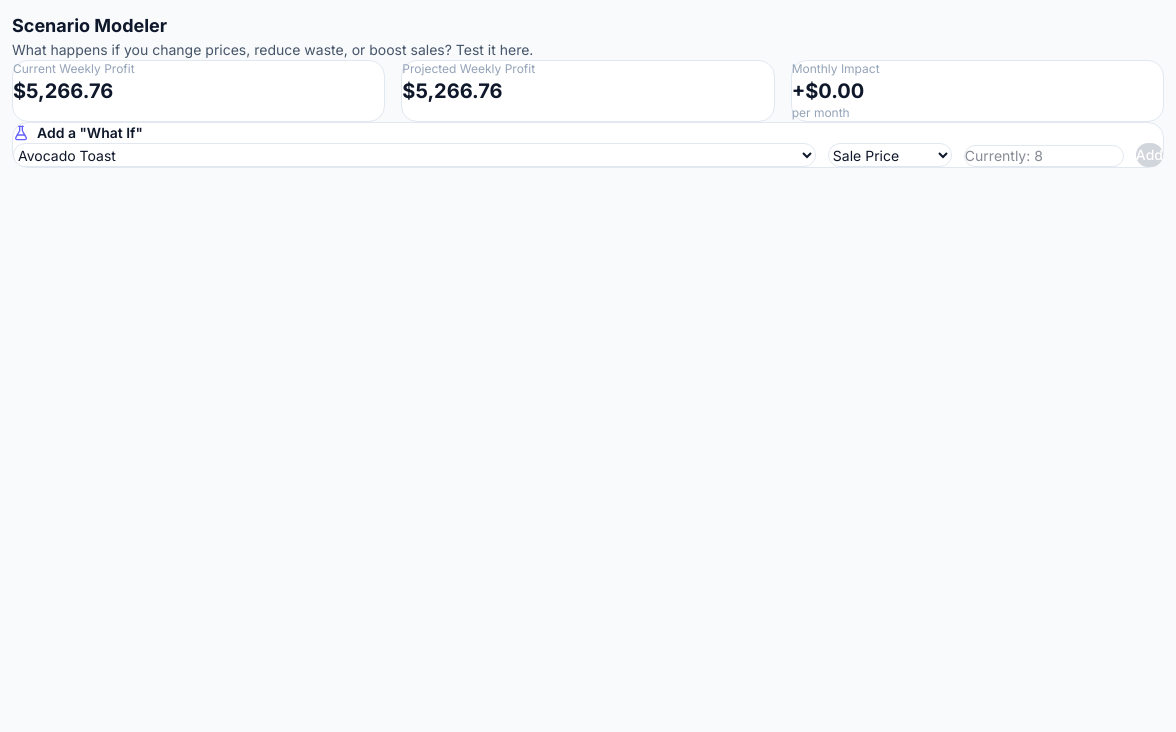
Scenario: ScenarioModeler › adds a scenario with correct waste factor conversion
# Select waste factor field
Select "Waste Factor" in the 2nd dropdown. click: (890, 155)
box: [828, 143, 952, 167]
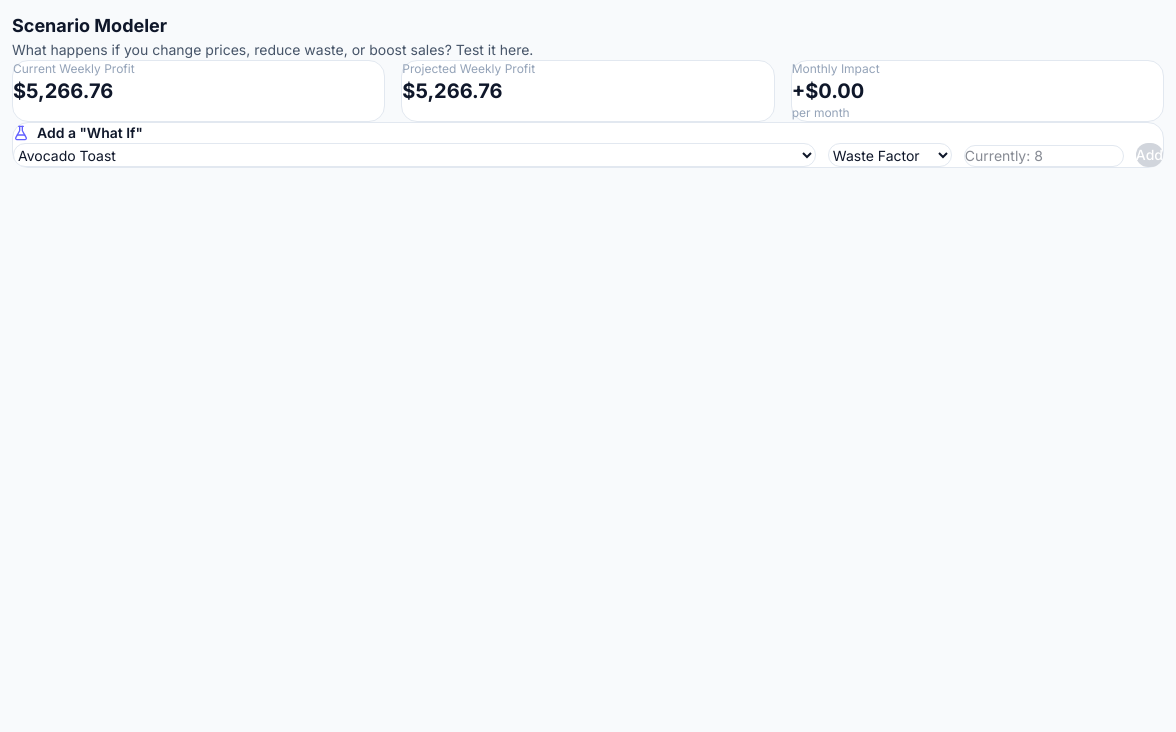
Type "10" into the number field with placeholder "Currently: 8". click: (1044, 156)
box: [964, 145, 1124, 167]
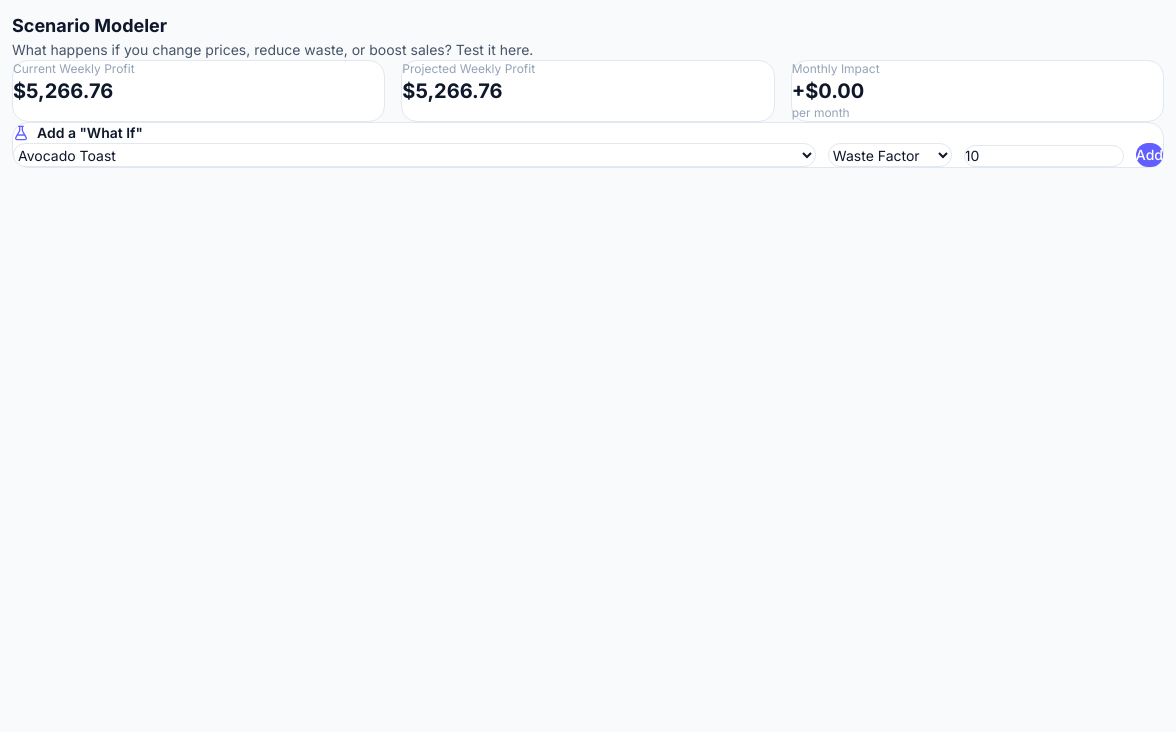
# Click Add
Click the button "Add". click: click(1149, 155)
box: [1136, 143, 1163, 167]
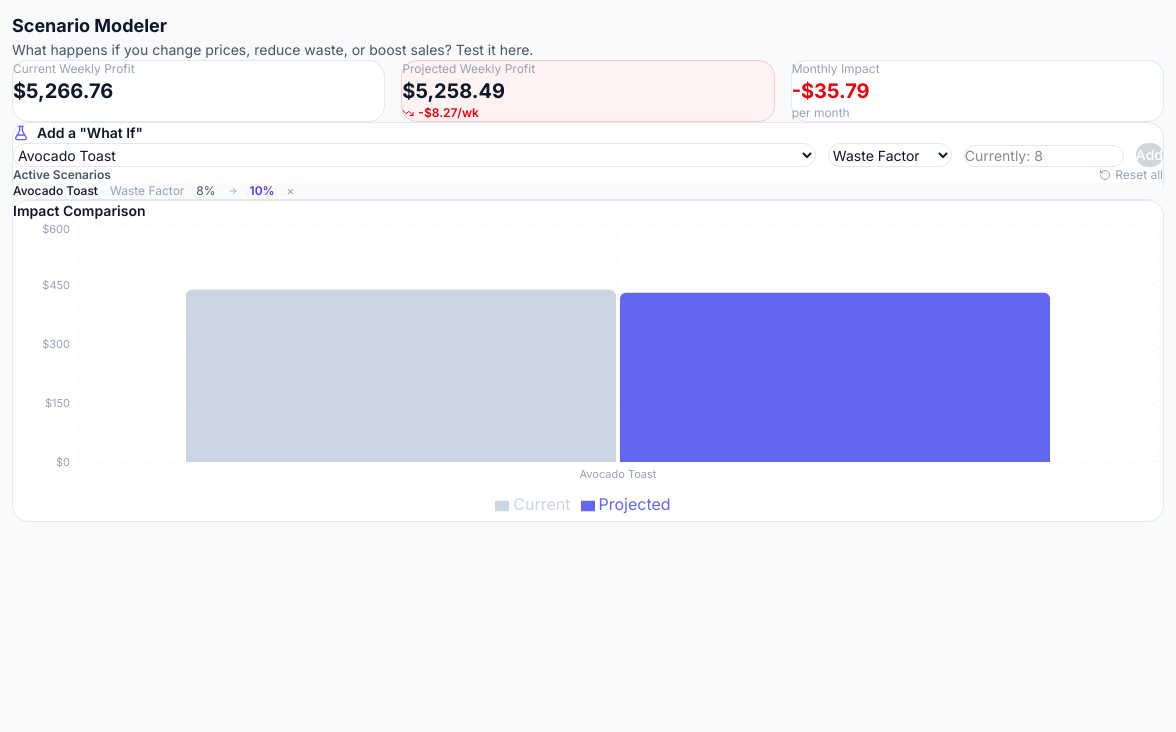
Now the text "Active Scenarios" is shown, box [13, 167, 111, 183]
Now the text "10%" is shown, box [250, 183, 275, 199]
